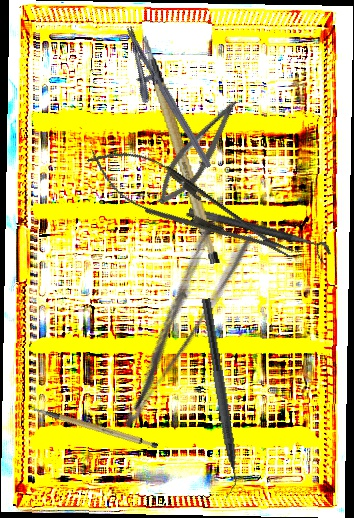Chopper: (188, 298, 246, 501)
Dressing Forceps: (88, 211, 259, 432)
Fixation Ring: (184, 206, 334, 265)
Micro Scissor: (148, 89, 246, 214)
Needle Holder: (77, 132, 305, 280), (106, 25, 213, 180)
Scalpel Handle: (140, 29, 225, 270), (32, 388, 160, 465)
